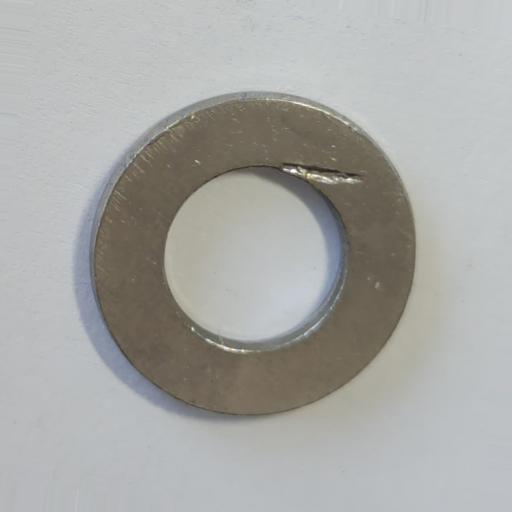scratch: (278, 161, 364, 185)
